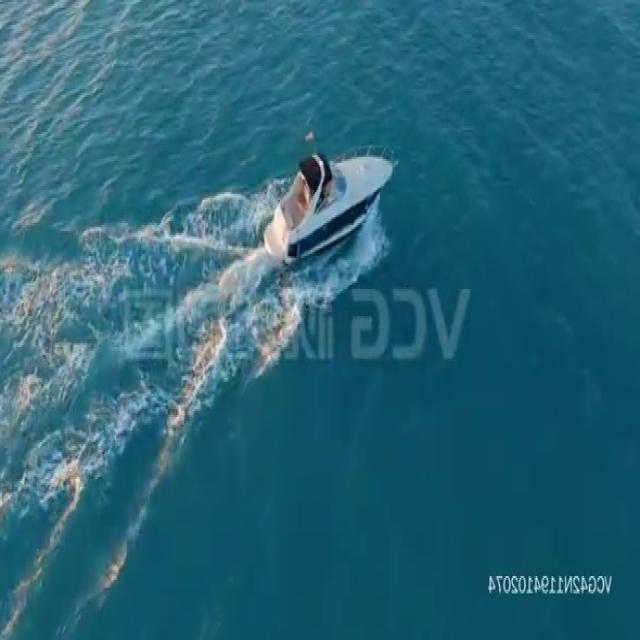houseboat: (263, 138, 397, 268)
